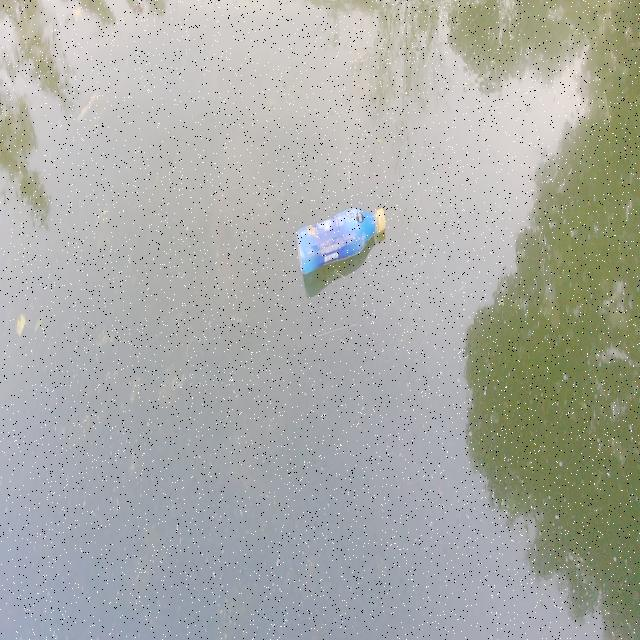Bottle: (296, 207, 390, 277)
